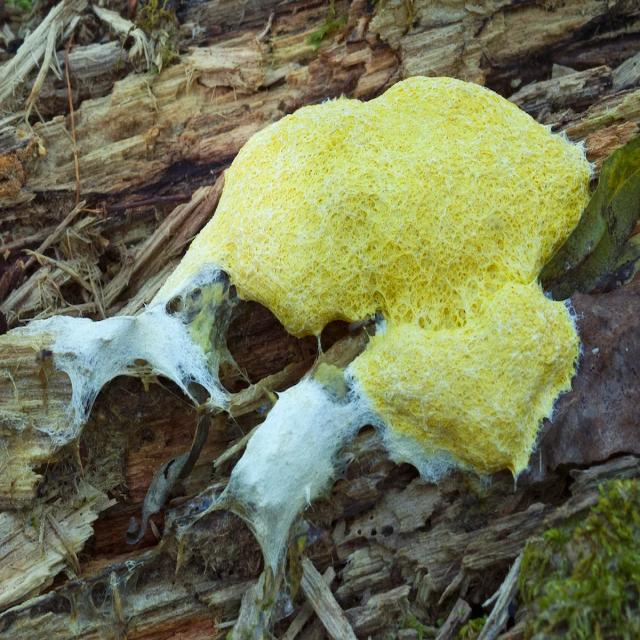Dog_vomit_slime_mold: (124, 35, 606, 574)
